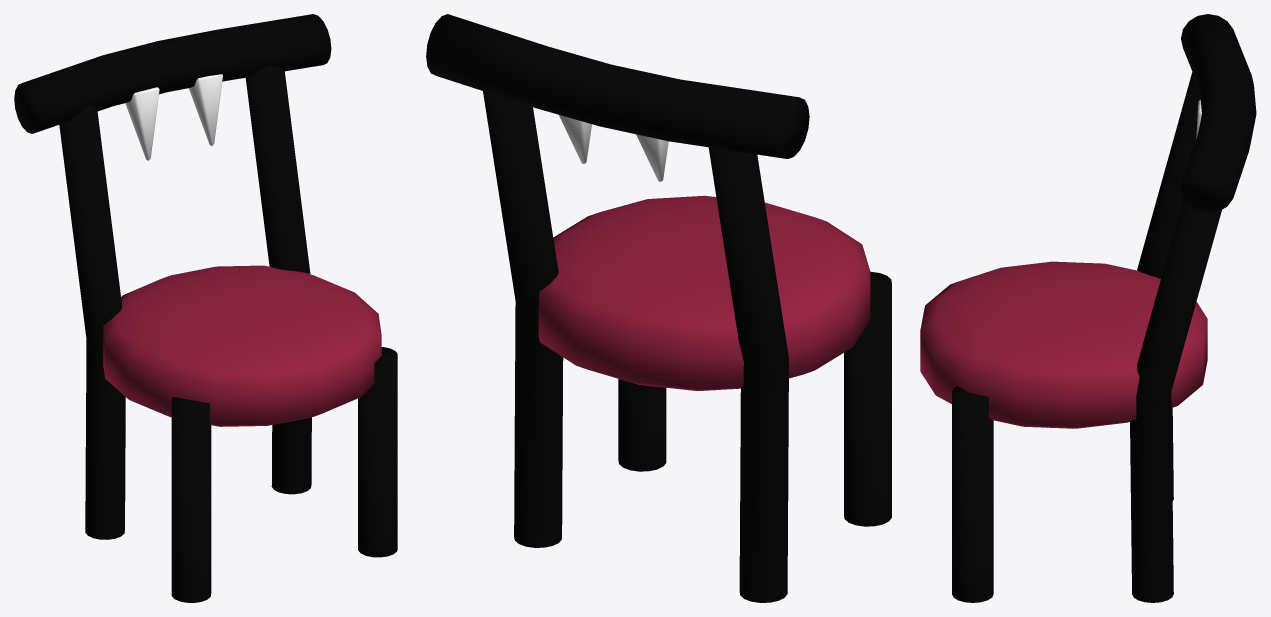
Rendered from Seat_Goth.glb.
3 views of the same model, side by side, from view 1: azimuth 30°, elevation 25°; view 2: azimuth 150°, elevation 25°; view 3: azimuth 270°, elevation 25° (orthographic). The views are drawn at different scales.
Visible parts, largest first — view 1: Seat_Goth; view 2: Seat_Goth; view 3: Seat_Goth.
Part boxes in pixels (<box>): Seat_Goth: <box>14,14,397,602</box>; Seat_Goth: <box>426,14,891,602</box>; Seat_Goth: <box>920,14,1256,602</box>.
Size of the model in its own units: 0.3235 by 0.4665 by 0.3095.
1 material, 1 textured.
